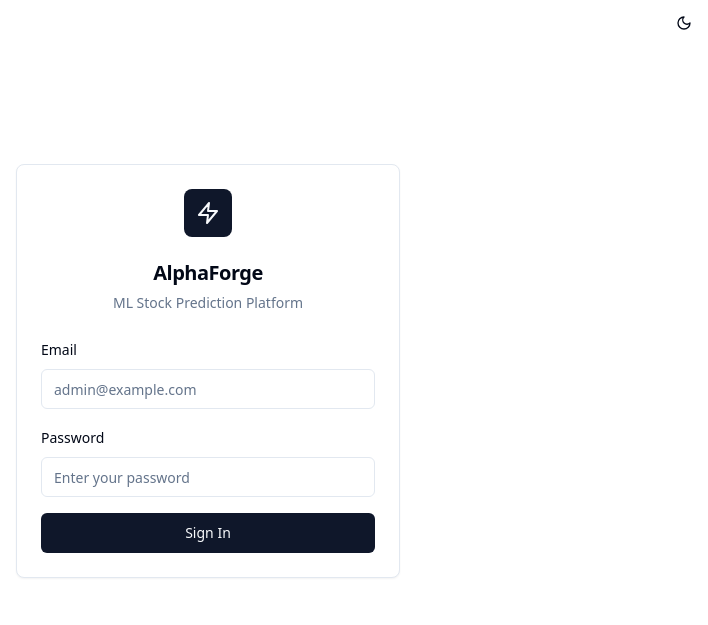
LoginPage › displays error message on failed login
Type "bad@email.com" into the field labelled "Email". click: (208, 389)
box: [41,369,375,409]
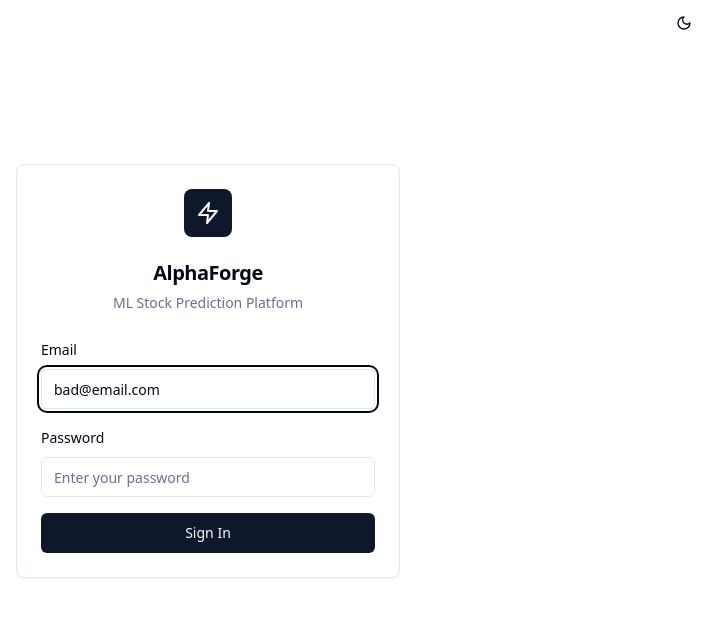
Type "wrong" into the password field labelled "Password". click: (208, 477)
box: [41,457,375,497]
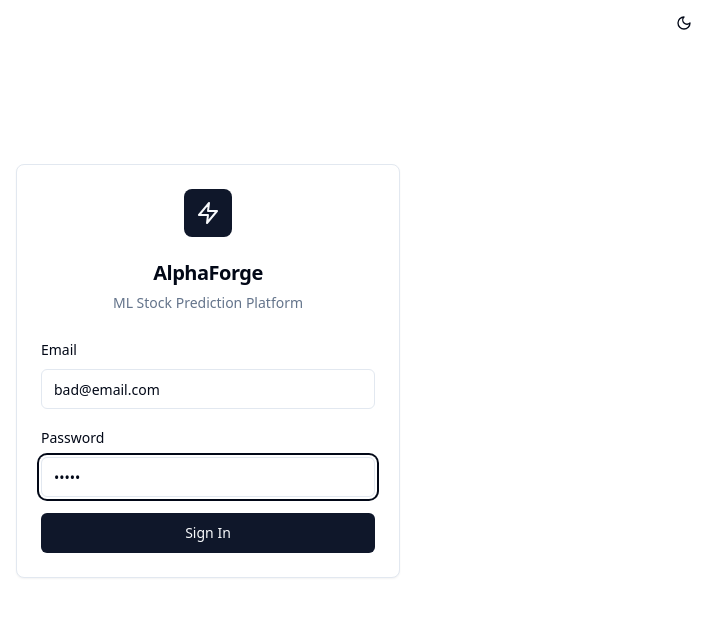
Click the button "Sign In". click: (208, 533)
box: [41,513,375,553]
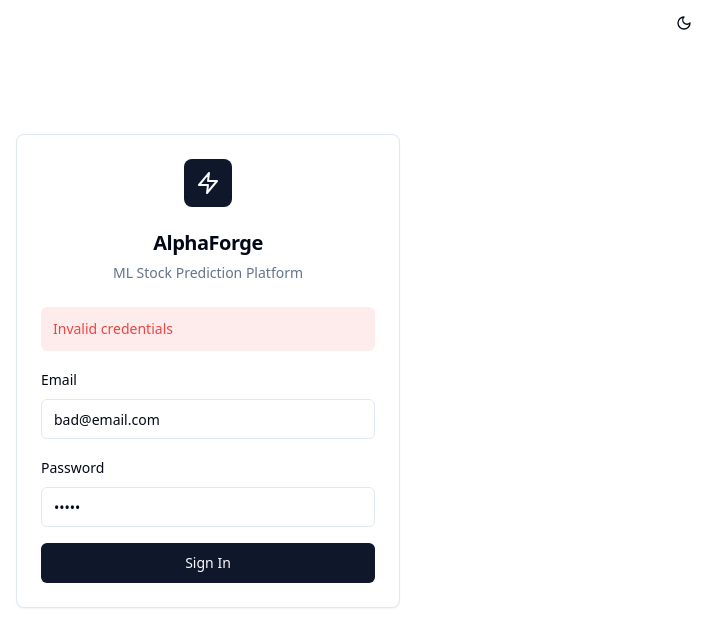
expect the text "Invalid credentials" is shown: met, box [41,307,375,351]
